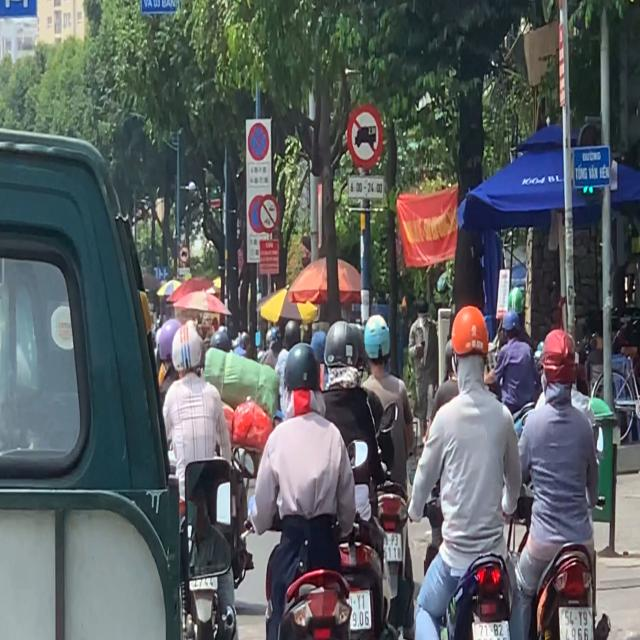Cam con lai: (347, 106, 383, 170), (257, 190, 278, 234)
Cam dung va do: (247, 122, 270, 162)
